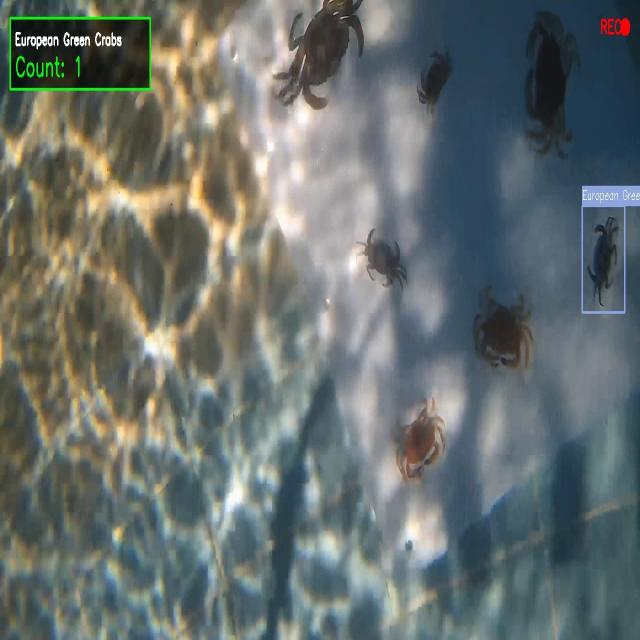European_Green_Crab: (255, 3, 391, 135), (350, 212, 415, 310), (587, 211, 623, 314)
